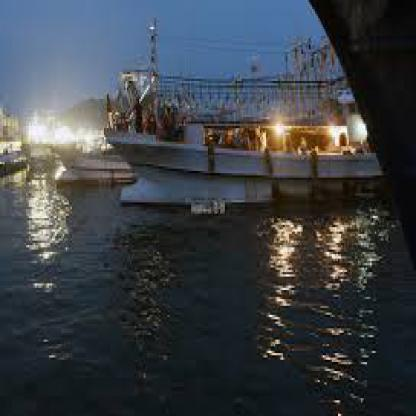fish-b: (100, 13, 396, 234)
